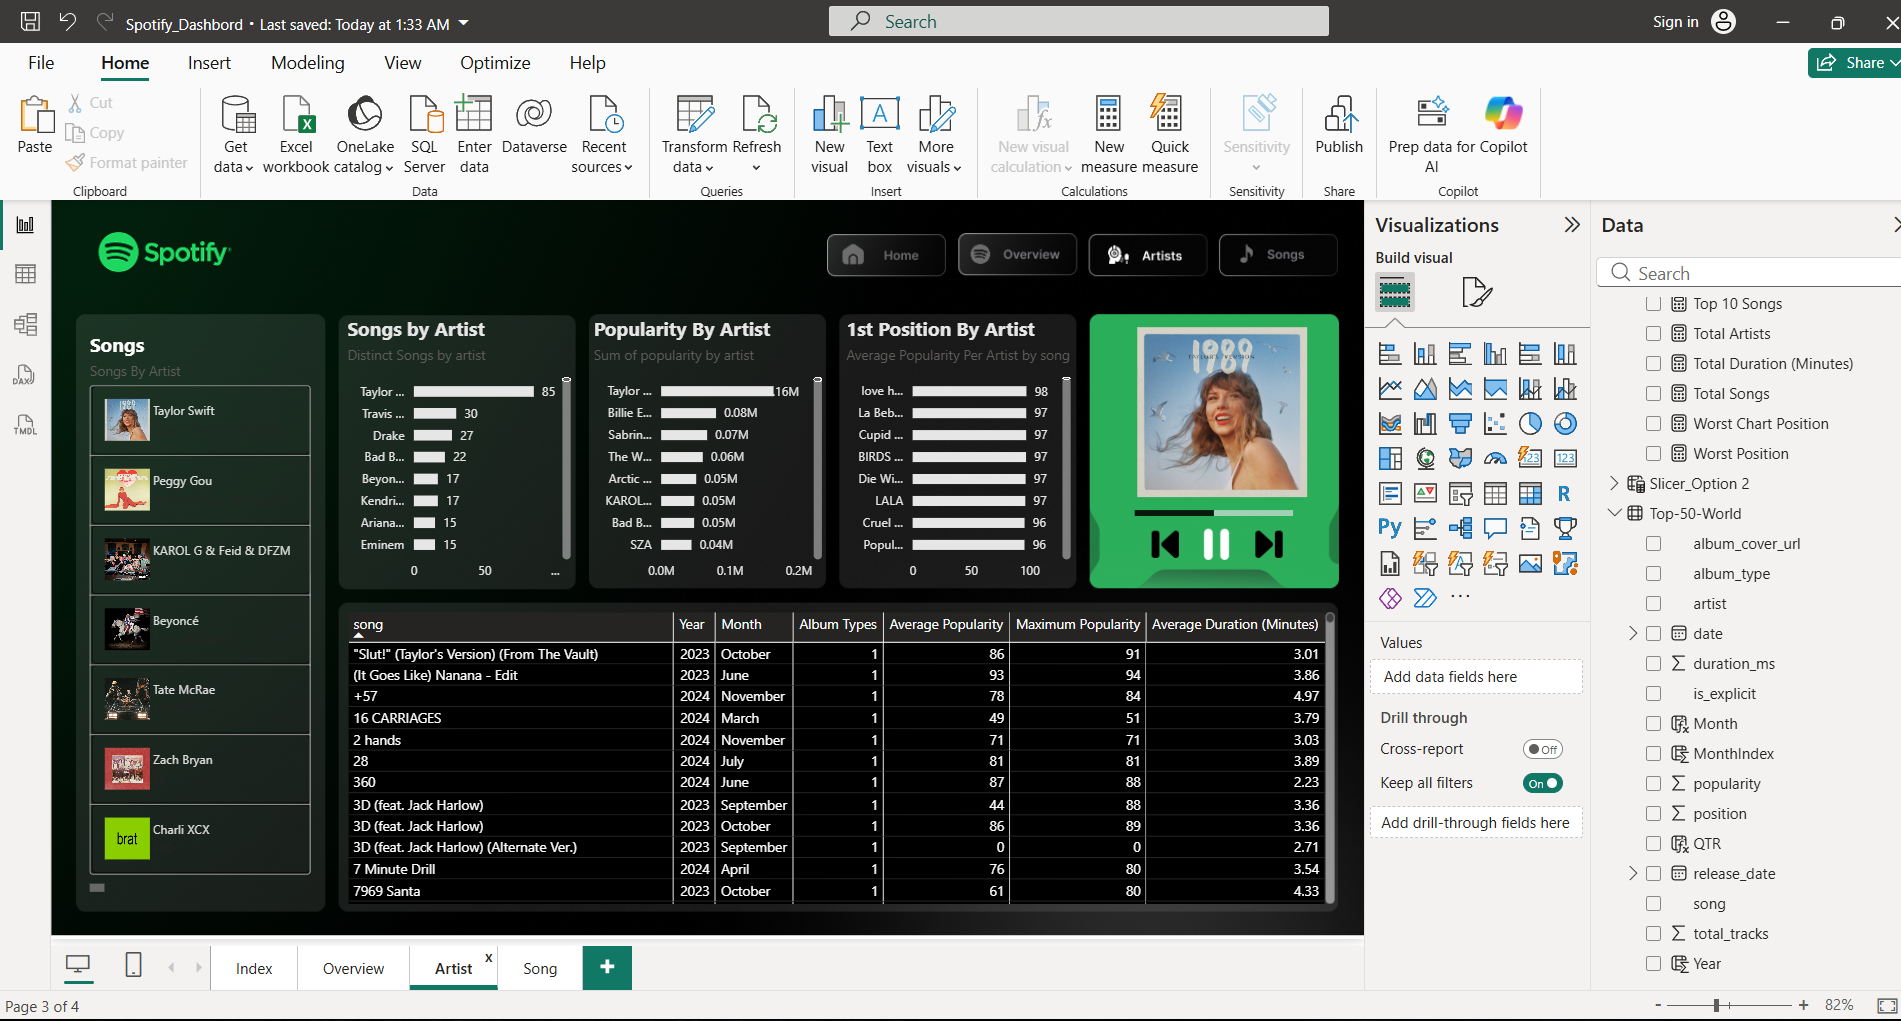

What the dashboard file says about the page in this screenshot:
{"tool":"powerbi","page":{"name":"Artist","canvas":[1280,720],"ordinal":2},"visuals":[{"type":"actionButton","box":[758.8,31.7,115.7,40.2],"z":0},{"type":"actionButton","box":[885.5,31.7,115.7,40.2],"z":1000},{"type":"actionButton","box":[1013.4,31.7,115.7,40.2],"z":2000},{"type":"actionButton","box":[1140.1,31.7,115.7,40.2],"z":3000},{"type":"advancedSlicerVisual","title":"Songs","fields":{"Values":["Top-50-World.song"]},"box":[32.9,127.9,225.4,554.4],"z":4000},{"type":"tableEx","fields":{"Values":["Top-50-World.song","Top-50-World.release_date.Variation.Date Hierarchy.Year","Top-50-World.release_date.Variation.Date Hierarchy.Month","_Measures.Album Types","_Measures.Average Popularity","_Measures.Maximum Popularity","_Measures.Average Duration (Minutes)"]},"box":[283.9,397.2,972.3,293.6],"z":5000},{"type":"clusteredBarChart","title":"Songs by Artist","fields":{"Category":["Top-50-World.artist"],"Y":["_Measures.Distinct Songs"]},"box":[283.9,112.1,227.8,266.8],"z":6000},{"type":"clusteredBarChart","title":"Popularity By Artist","fields":{"Y":["Sum(Top-50-World.popularity)"],"Category":["Top-50-World.artist"]},"box":[523.9,112.1,232.7,266.8],"z":7000},{"type":"clusteredBarChart","title":"1st Position By Artist","fields":{"Category":["Top-50-World.song"],"Y":["_Measures.Average Popularity Per Artist"]},"box":[770,112.1,229.1,266.8],"z":8000},{"type":"advancedSlicerVisual","title":"Songs","fields":{"Values":["Top-50-World.song"]},"box":[1007.8,104.3,268,204.7],"z":9000},{"type":"hundredPercentStackedBarChart","fields":{"Y":["_Measures.Average Popularity","Avg(Top-50-World.popularity)"]},"box":[1051.7,266.3,164.5,70.7],"z":10000},{"type":"image","box":[1166.7,320.4,40,30],"z":11000},{"type":"image","box":[1065.6,320.4,40,30],"z":12000},{"type":"image","box":[1116.1,320.4,40,30],"z":13000},{"type":"shape","box":[1019.8,102.3,230.3,287.5],"z":14000}]}

Visuals, with their boxes on the page's 1280x720 design canvas (x1, y1, x2, y2). These are canvas units, not pixel positions in the 1901x1021 screenshot, which may show the page scaled, cropped or inside an application window:
actionButton: [759, 32, 874, 72]
actionButton: [886, 32, 1001, 72]
actionButton: [1013, 32, 1129, 72]
actionButton: [1140, 32, 1256, 72]
"Songs" advancedSlicerVisual: [33, 128, 258, 682]
tableEx - Top-50-World.song x Top-50-World.release_date.Variation.Date Hierarchy.Year: [284, 397, 1256, 691]
"Songs by Artist" clusteredBarChart: [284, 112, 512, 379]
"Popularity By Artist" clusteredBarChart: [524, 112, 757, 379]
"1st Position By Artist" clusteredBarChart: [770, 112, 999, 379]
"Songs" advancedSlicerVisual: [1008, 104, 1276, 309]
hundredPercentStackedBarChart - _Measures.Average Popularity x Avg(Top-50-World.popularity): [1052, 266, 1216, 337]
image: [1167, 320, 1207, 350]
image: [1066, 320, 1106, 350]
image: [1116, 320, 1156, 350]
shape: [1020, 102, 1250, 390]
